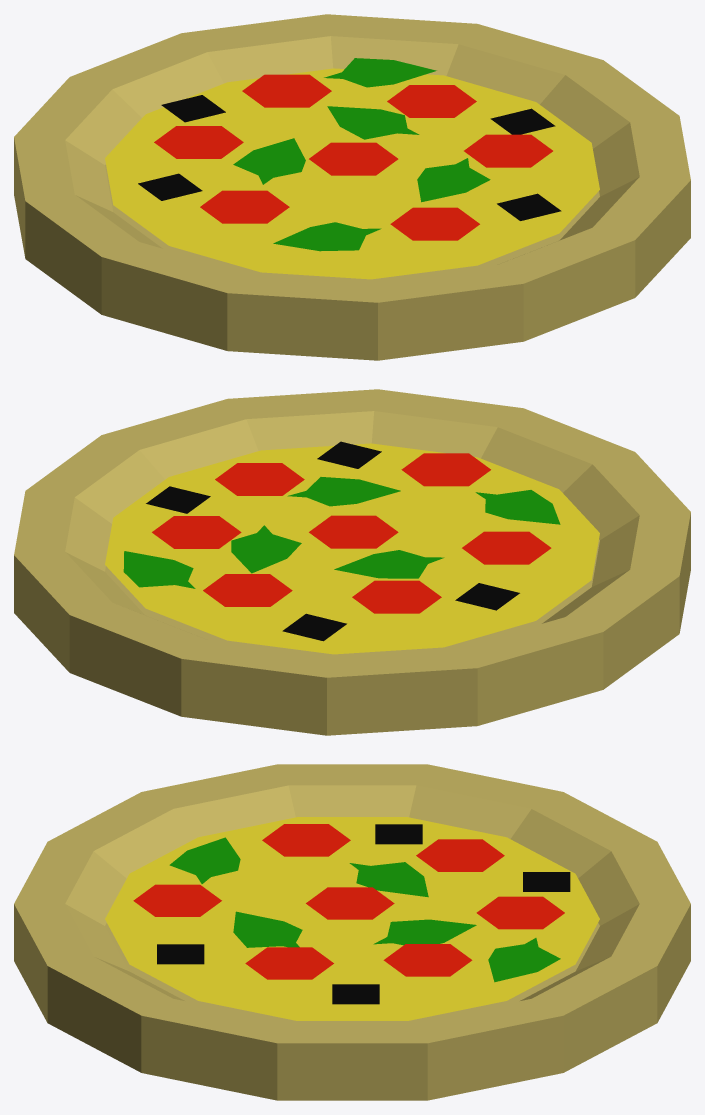
The model's file is Veggie Pizza.fbx.
3 views of the same model, one above another, from view 1: azimuth 30°, elevation 25°; view 2: azimuth 150°, elevation 25°; view 3: azimuth 270°, elevation 25° (orthographic).
Parts seen in each view (by area): view 1: Crust, Cheese, Pep, Veggie; view 2: Crust, Cheese, Pep, Veggie; view 3: Crust, Cheese, Pep, Veggie.
Boxes of the visible parts, box(x1,y1,x2,y2) form: Crust: box(14, 14, 690, 360); Cheese: box(105, 68, 599, 279); Pep: box(154, 74, 552, 240); Veggie: box(138, 58, 561, 251); Crust: box(14, 389, 690, 735); Cheese: box(105, 443, 599, 654); Pep: box(152, 453, 551, 613); Veggie: box(123, 441, 560, 641); Crust: box(14, 764, 690, 1100); Cheese: box(105, 817, 599, 1020); Pep: box(133, 824, 564, 979); Veggie: box(157, 824, 570, 1004).
Size of the model in its own units: 40.75 by 3.93 by 41.8.
